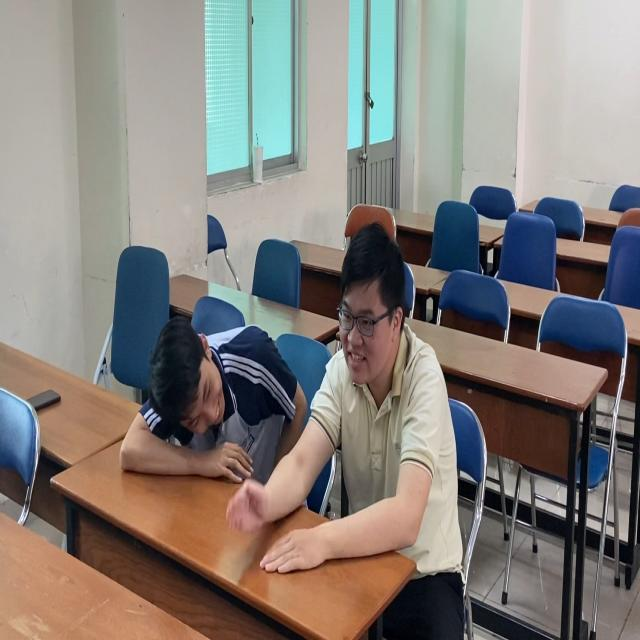sleep: (121, 322, 296, 487)
